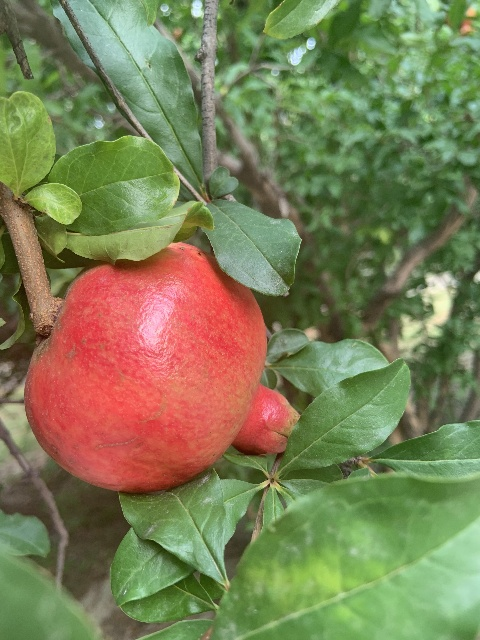ripe: (24, 241, 299, 491)
